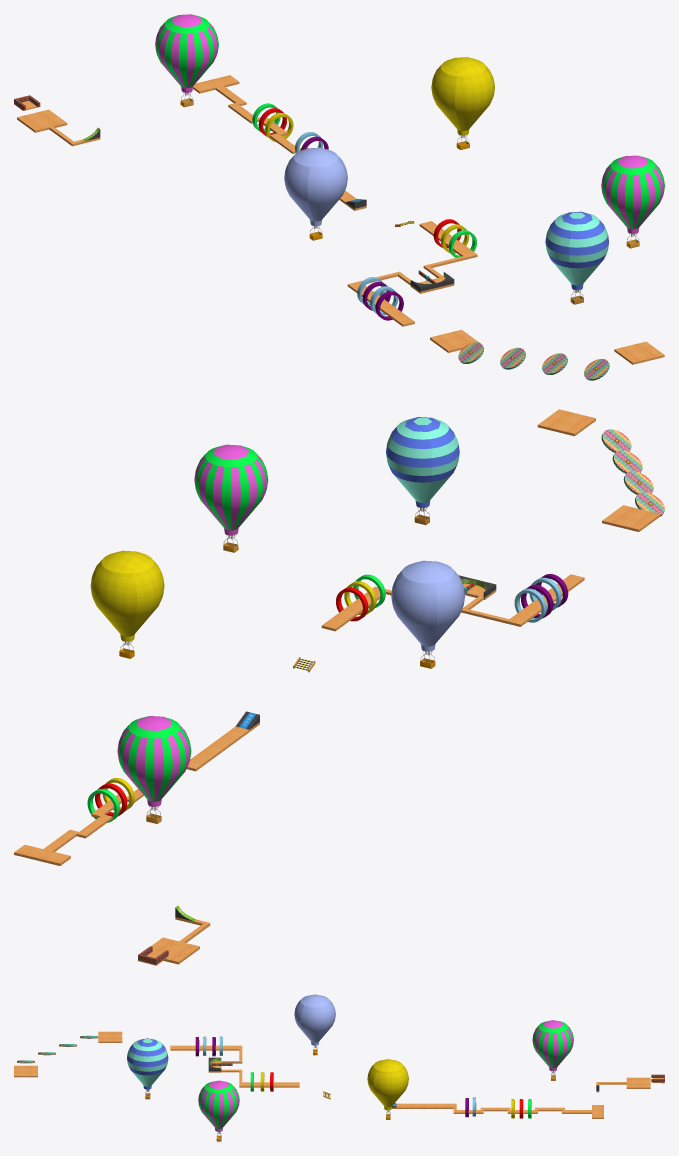
File: LEVEL 30.fbx
3 renders of one model, top to bottom at view 1: azimuth 30°, elevation 25°; view 2: azimuth 150°, elevation 25°; view 3: azimuth 270°, elevation 25°, orthographic. The views are drawn at different scales.
Parts seen in each view (by area): view 1: Floors_Combined, ballon__2_, ballon__1_, ballon_3, ballon_3__1_, ballon; view 2: Floors_Combined, ballon_3, ballon__2_, ballon_3__1_, ballon, ballon__1_; view 3: Floors_Combined, ballon__1_, ballon, ballon_3__1_, ballon__2_, ballon_3.
Boxes of the visible parts, box(x1,y1,x2,y2) form: Floors_Combined: box(17, 75, 664, 364); ballon__2_: box(431, 57, 494, 149); ballon__1_: box(545, 211, 608, 304); ballon_3: box(155, 14, 218, 107); ballon_3__1_: box(601, 155, 664, 248); ballon: box(284, 147, 347, 240); Floors_Combined: box(14, 409, 660, 964); ballon_3: box(117, 716, 191, 823); ballon__2_: box(90, 550, 164, 658); ballon_3__1_: box(194, 444, 268, 552); ballon: box(391, 560, 464, 668); ballon__1_: box(386, 417, 459, 525); Floors_Combined: box(14, 1031, 650, 1118); ballon__1_: box(127, 1038, 168, 1099); ballon: box(294, 994, 335, 1055); ballon_3__1_: box(198, 1080, 239, 1141); ballon__2_: box(367, 1059, 408, 1119); ballon_3: box(532, 1020, 573, 1080).
Size of the model in its own units: 7842 by 3504 by 21654.
Materials: 34 (19 with a texture image).
